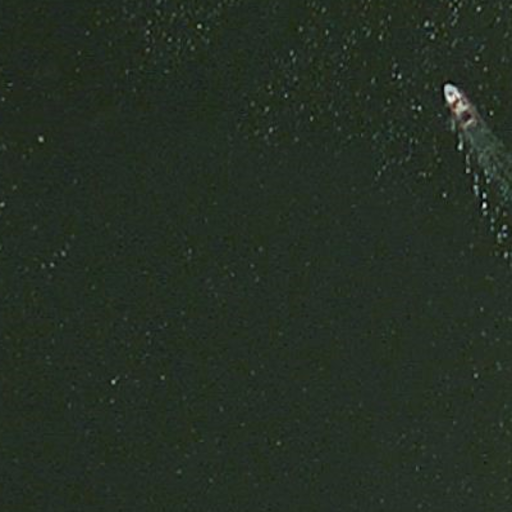ship: (440, 81, 478, 136)
